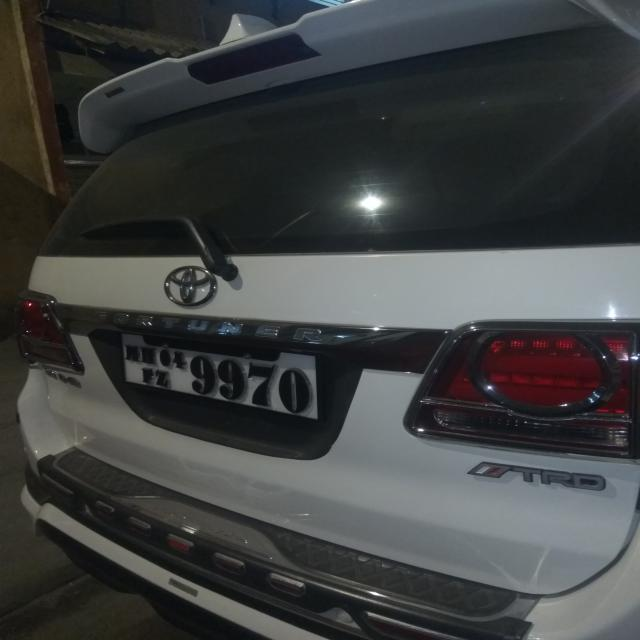Number-Plate: (120, 345, 324, 414)
